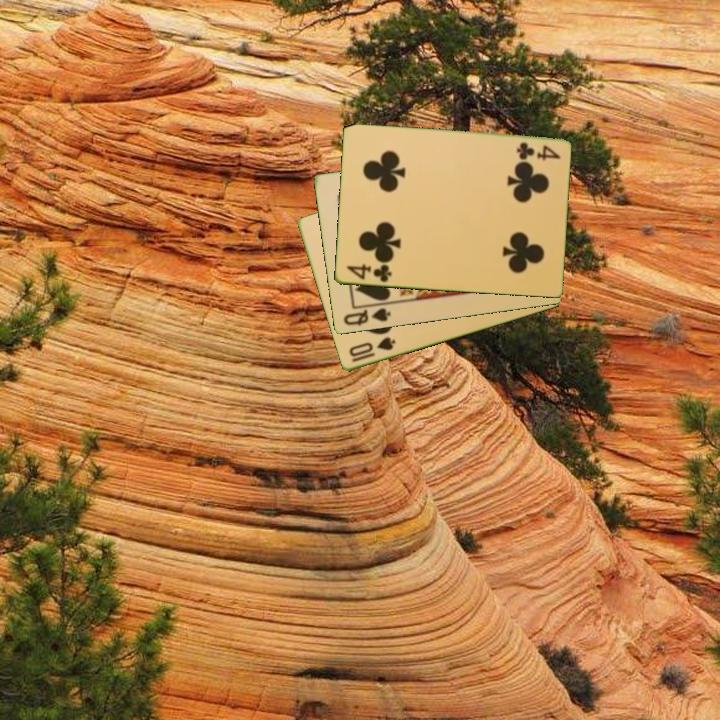10s: (345, 334, 398, 365)
4c: (343, 261, 394, 285), (513, 139, 563, 162)
Qs: (340, 305, 394, 329)
